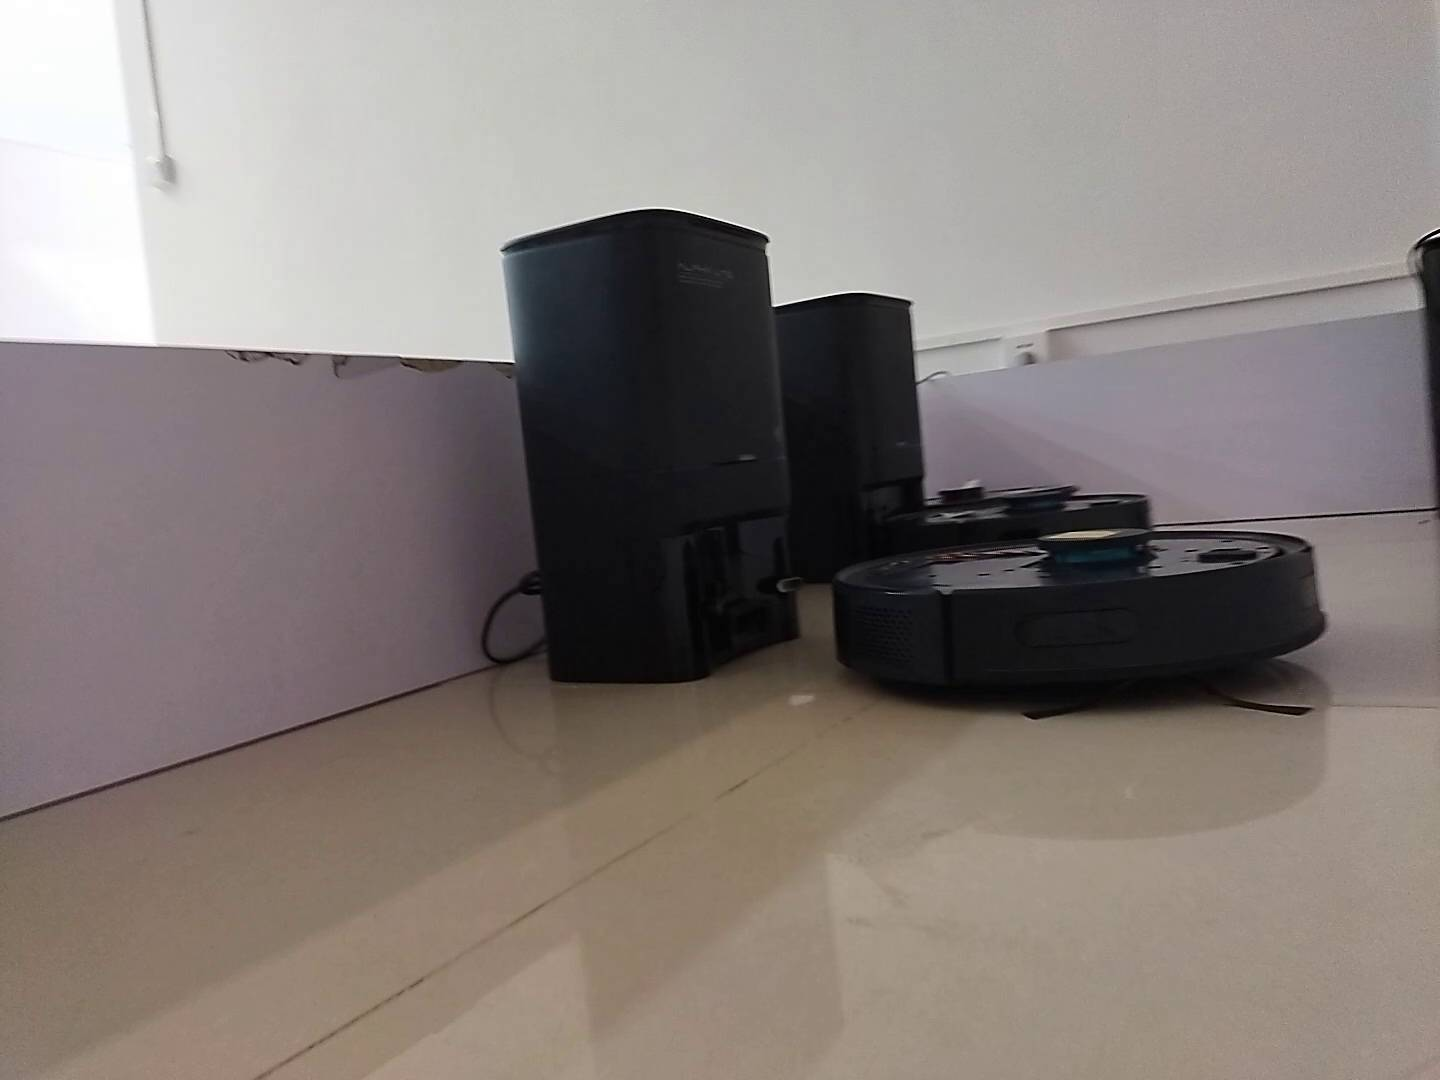dust collecting barrel: (499, 210, 801, 683), (776, 292, 927, 574)
